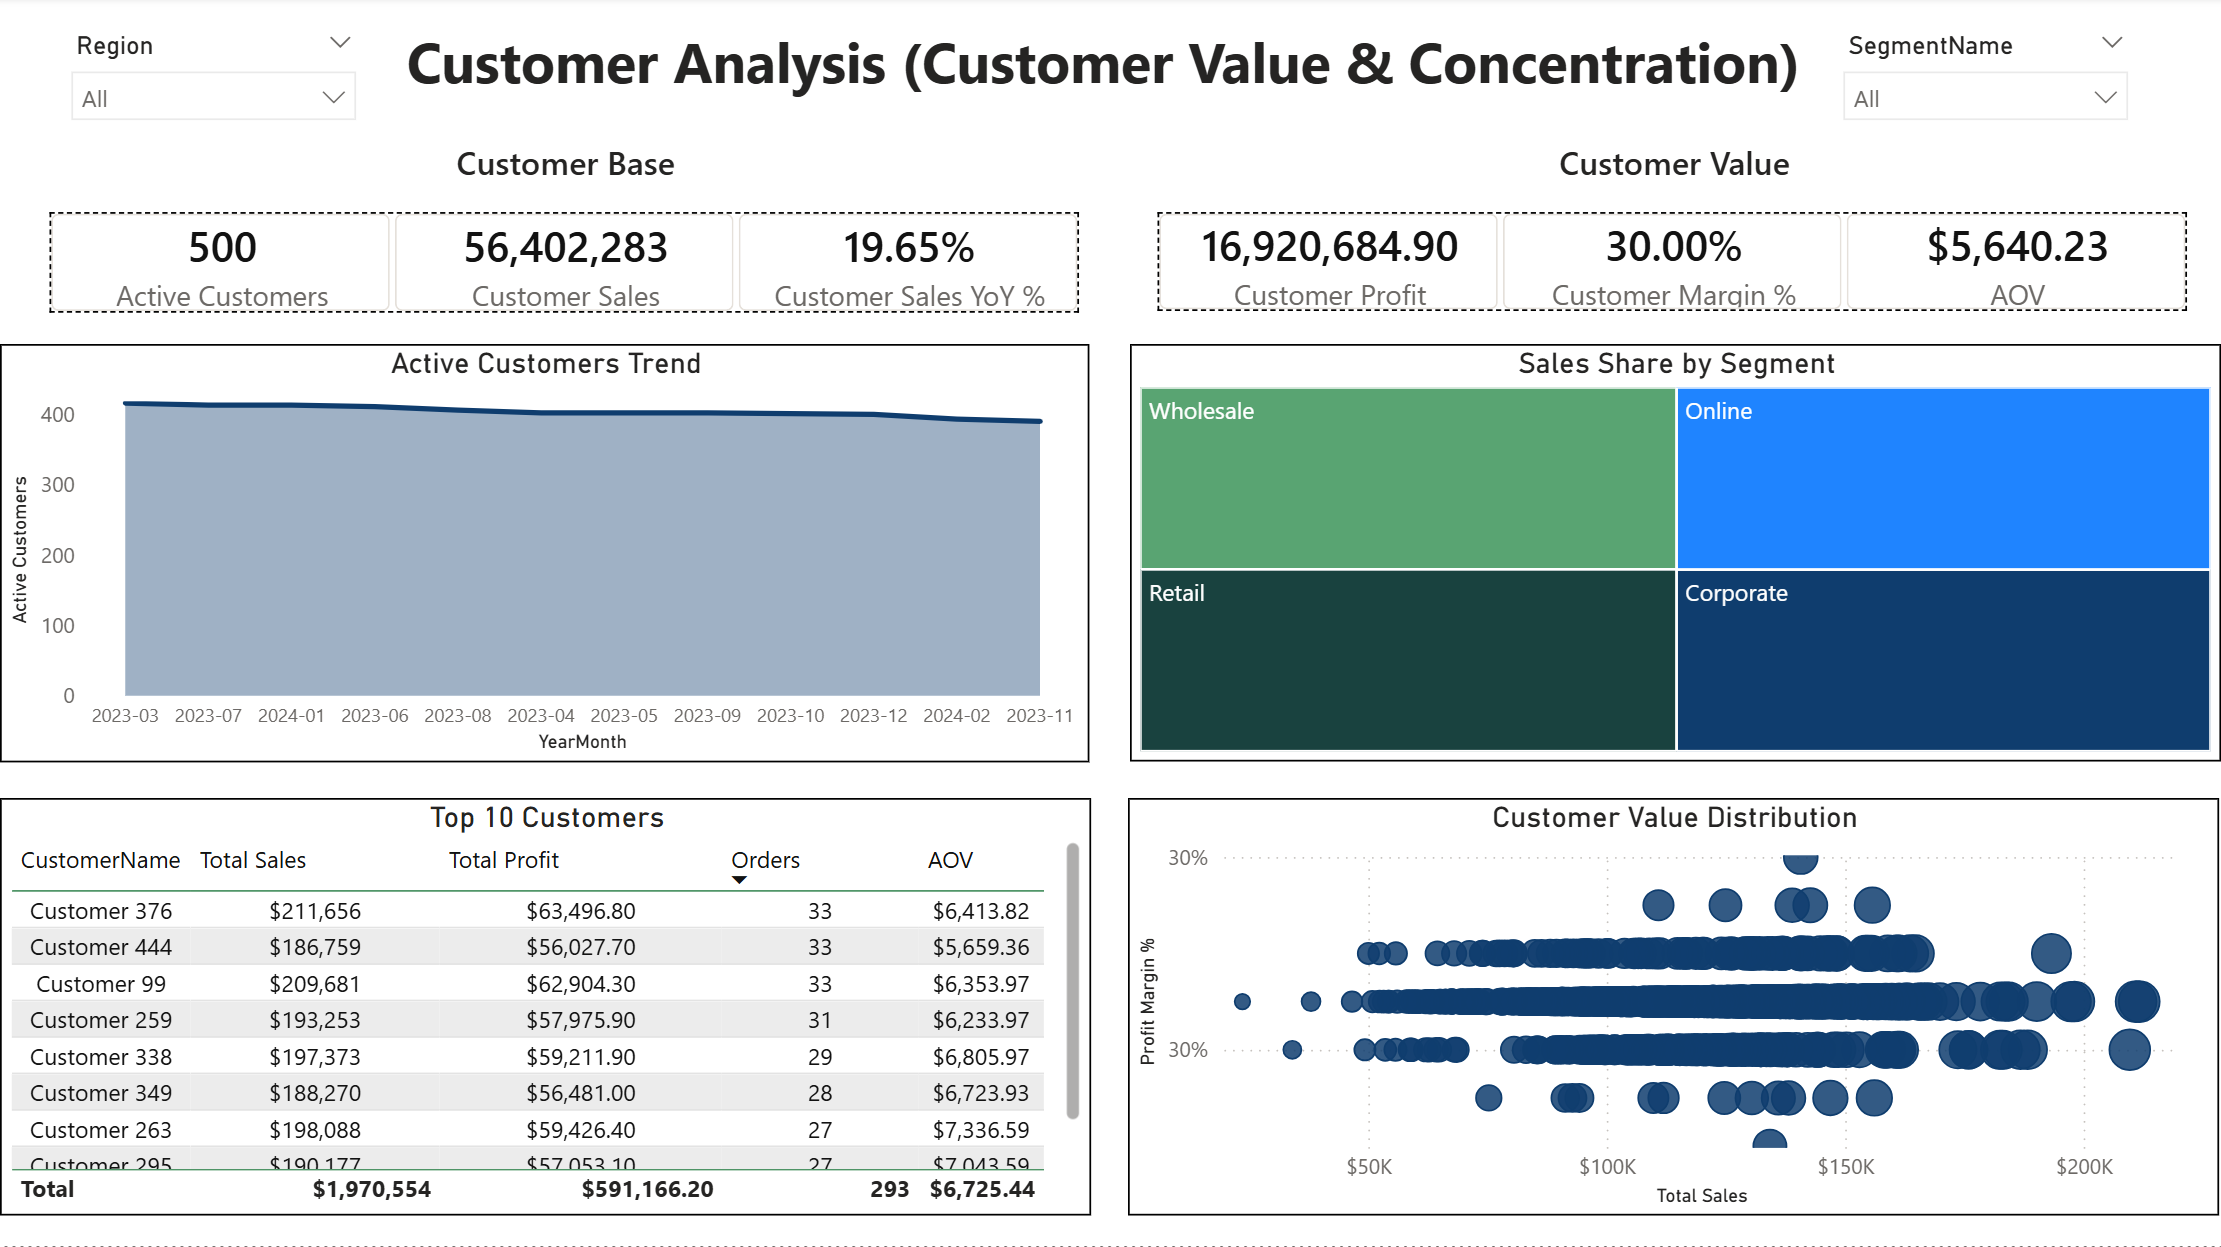

The dashboard page shown, as its layout file describes it:
{"tool":"powerbi","page":{"name":"Page 4","canvas":[1280,720],"ordinal":3},"visuals":[{"type":"textbox","box":[229.7,10.8,821.6,55.4],"z":0},{"type":"cardVisual","title":"Customer Base","fields":{"Data":["All_measures.Active Customers","All_measures.Customer Sales","All_measures.Customer Sales YoY %"]},"box":[12,82.7,628.7,117.3],"z":1000},{"type":"cardVisual","title":"Customer Value","fields":{"Data":["All_measures.Customer Profit","All_measures.Customer Margin %","All_measures.AOV"]},"box":[650,82.4,629.7,116.2],"z":2000},{"type":"stackedAreaChart","title":"Active Customers Trend","fields":{"Category":["Dim_Date.YearMonth"],"Y":["All_measures.Active Customers"]},"box":[0,200.2,627.3,241],"z":3000},{"type":"treemap","title":"Sales Share by Segment","fields":{"Group":["FactSalesData.Segment"],"Values":["All_measures.Total Sales"]},"box":[651.4,200,628.4,240.5],"z":4000},{"type":"tableEx","title":"Top 10 Customers","fields":{"Values":["FactSalesData.CustomerName","All_measures.Total Sales","All_measures.Total Profit","All_measures.Orders","All_measures.AOV"]},"box":[0,462.2,628.4,240.5],"z":5000},{"type":"scatterChart","title":"Customer Value Distribution","fields":{"X":["All_measures.Total Sales"],"Y":["All_measures.Profit Margin %"],"Size":["All_measures.Total Profit"],"Category":["Customers.CustomerName"]},"box":[650,462.2,628.4,240.5],"z":6000},{"type":"slicer","fields":{"Values":["FactSalesData.Region"]},"box":[31.1,14.9,183.8,67.6],"z":7000},{"type":"slicer","fields":{"Values":["Segments.SegmentName"]},"box":[1051.4,14.9,183.8,67.6],"z":8000}]}

Visuals, with their boxes in screenshot pixels (x1, y1, x2, y2), scaled from the page's 1280x720 canvas onto the 2221x1247 screenshot:
textbox: BBox(399, 19, 1824, 115)
"Customer Base" cardVisual: BBox(21, 143, 1112, 346)
"Customer Value" cardVisual: BBox(1128, 143, 2220, 344)
"Active Customers Trend" stackedAreaChart: BBox(0, 347, 1088, 764)
"Sales Share by Segment" treemap: BBox(1130, 346, 2220, 763)
"Top 10 Customers" tableEx: BBox(0, 801, 1090, 1217)
"Customer Value Distribution" scatterChart: BBox(1128, 801, 2218, 1217)
slicer - FactSalesData.Region: BBox(54, 26, 373, 143)
slicer - Segments.SegmentName: BBox(1824, 26, 2143, 143)
